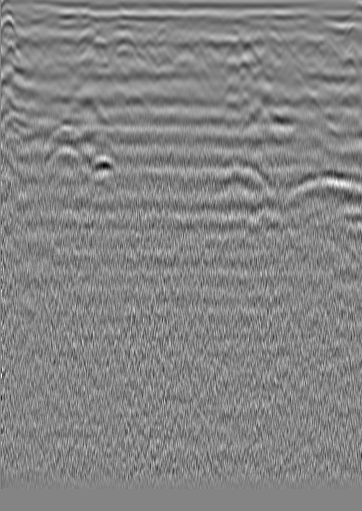가스: (84, 152, 118, 183)
상수: (340, 20, 360, 40)
오수: (28, 24, 48, 44)
우수: (190, 30, 215, 55)
